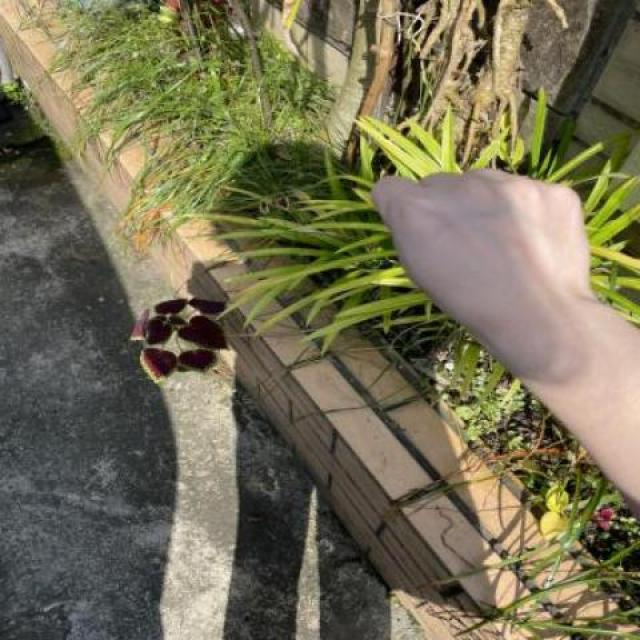Closed Hand: (354, 142, 626, 359)
